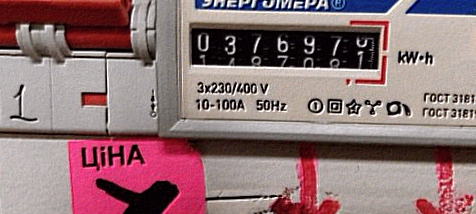0: (196, 31, 211, 53)
1: (354, 49, 366, 69)
3: (223, 34, 239, 56)
6: (275, 30, 291, 53)
7: (248, 31, 264, 54), (329, 34, 344, 57)
9: (301, 33, 317, 56)
screen: (180, 13, 392, 89)
